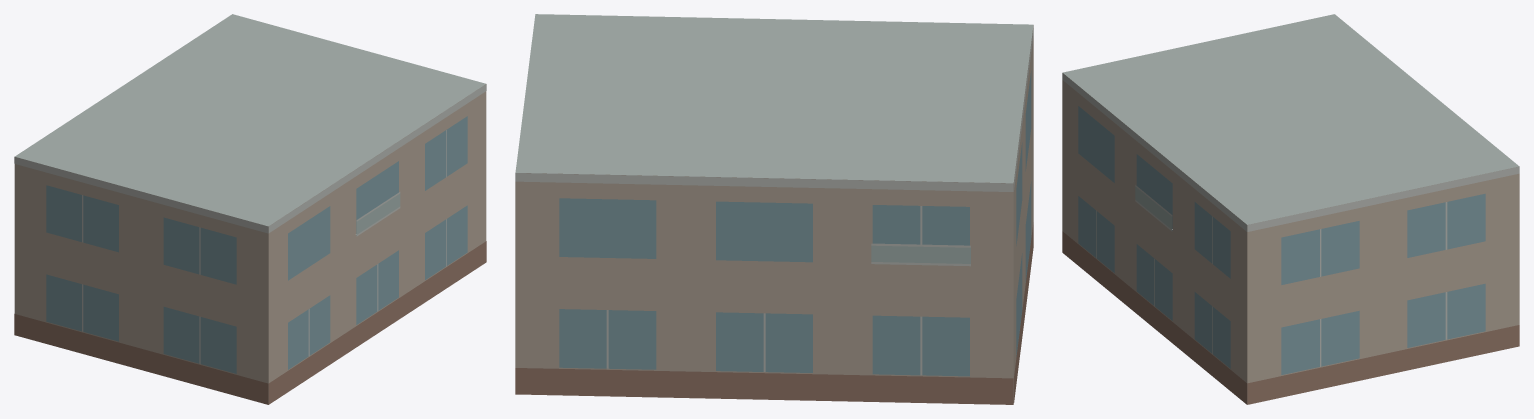
File: survey-upis-32840713.glb
3 views of the same model, side by side, from view 1: azimuth 30°, elevation 25°; view 2: azimuth 150°, elevation 25°; view 3: azimuth 270°, elevation 25° (orthographic). The views are drawn at different scales.
Visible parts, largest first — view 1: survey-upis-32840713.tmp; view 2: survey-upis-32840713.tmp; view 3: survey-upis-32840713.tmp.
Part boxes in pixels (box(x1,y1,x2,y2)): survey-upis-32840713.tmp: box(14, 14, 486, 404); survey-upis-32840713.tmp: box(515, 14, 1033, 404); survey-upis-32840713.tmp: box(1062, 14, 1519, 404).
Bounding box in the file's own units: 15.34 × 6.1 × 14.05.
